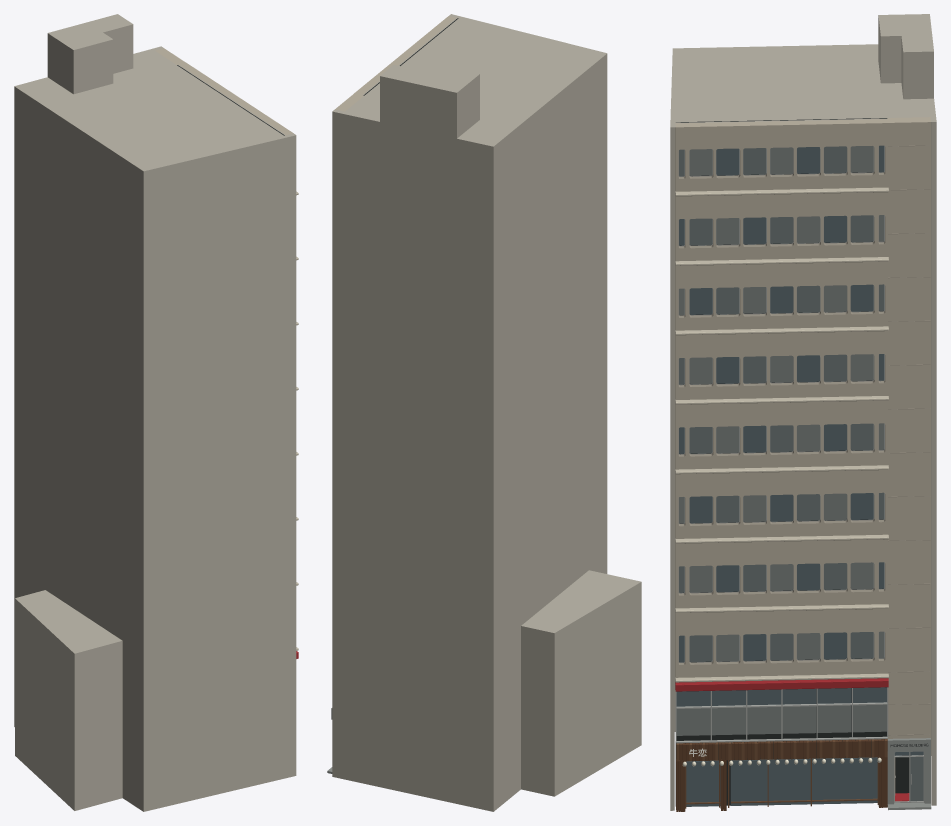
The model's file is d11-momose880.glb.
The picture shows the model from 3 angles, left to right: view 1: azimuth 30°, elevation 25°; view 2: azimuth 150°, elevation 25°; view 3: azimuth 270°, elevation 25°; orthographic projection. The views are drawn at different scales.
Visible parts, largest first — view 1: inferred_upper_observed_front_shell__ivory; view 2: inferred_upper_observed_front_shell__ivory; view 3: inferred_upper_observed_front_shell__ivory.
Part boxes in pixels (<box>): inferred_upper_observed_front_shell__ivory: <box>14,14,298,811</box>; inferred_upper_observed_front_shell__ivory: <box>327,14,641,811</box>; inferred_upper_observed_front_shell__ivory: <box>670,14,936,811</box>.
Bounding box in the file's own units: 13.05 × 41.1 × 13.58.
1 material, 1 textured.
